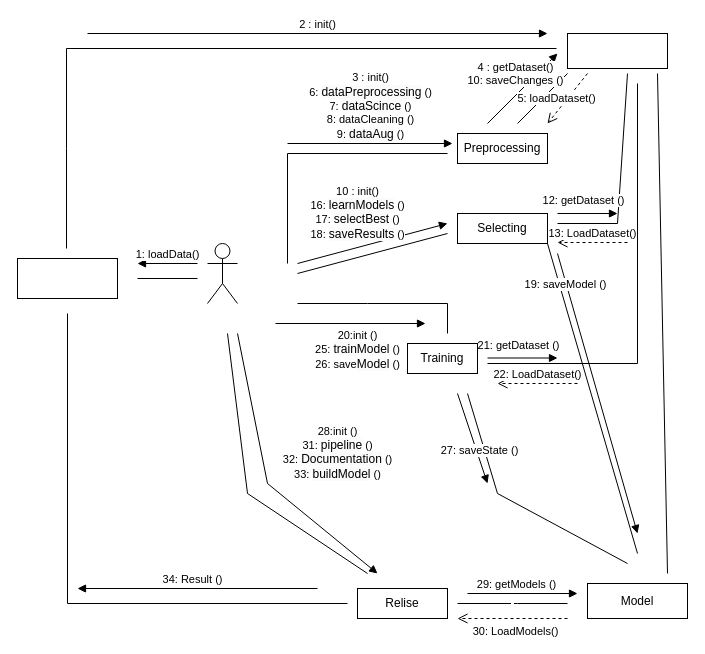
Some shapes in this 705 by 654 pixel diagram are drawn without their labels. The centre of each missing label's shape, as x and y in pixels:
"Dataset" goes at point (617, 50).
"System" goes at point (67, 278).
"Сотрудник" goes at point (222, 273).
